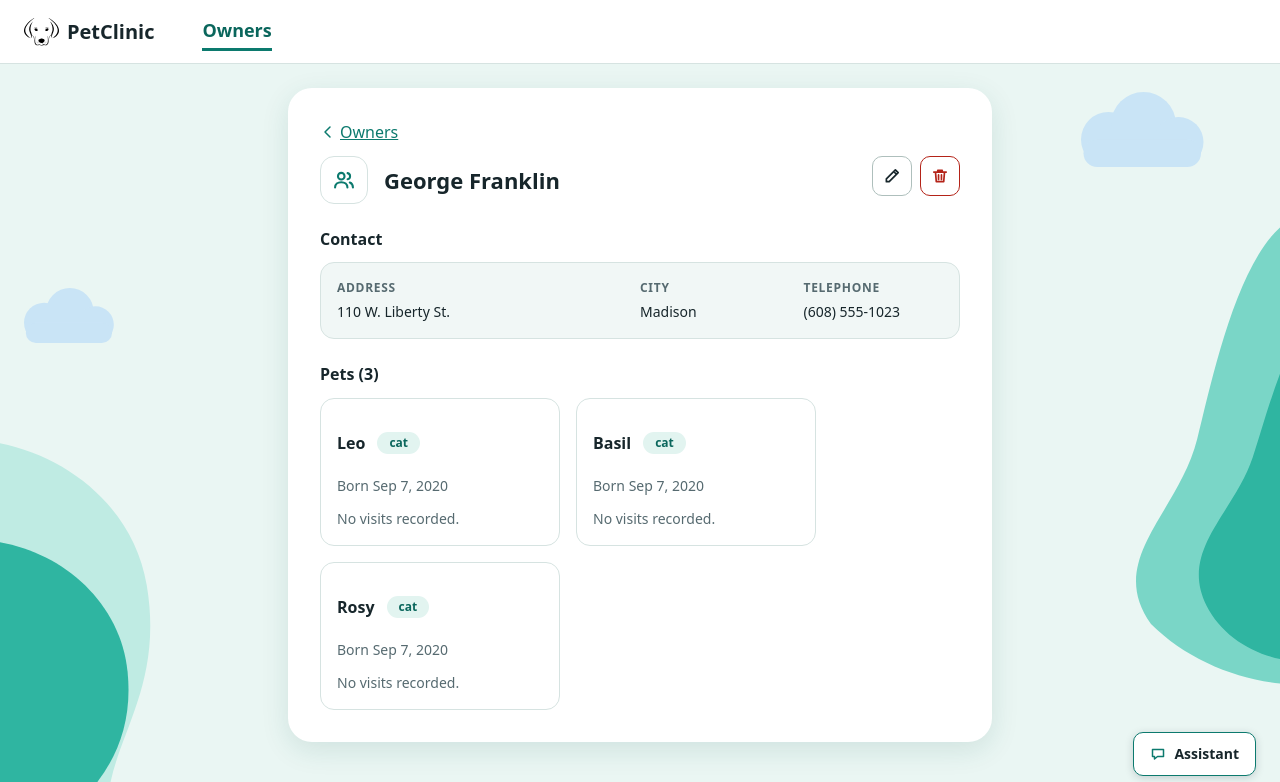
Test: deleting an owner › asks for confirmation, naming what will be removed, and sends nothing yet
Click the button named "Delete owner" at coordinates (940, 176), box [920,156,960,196]
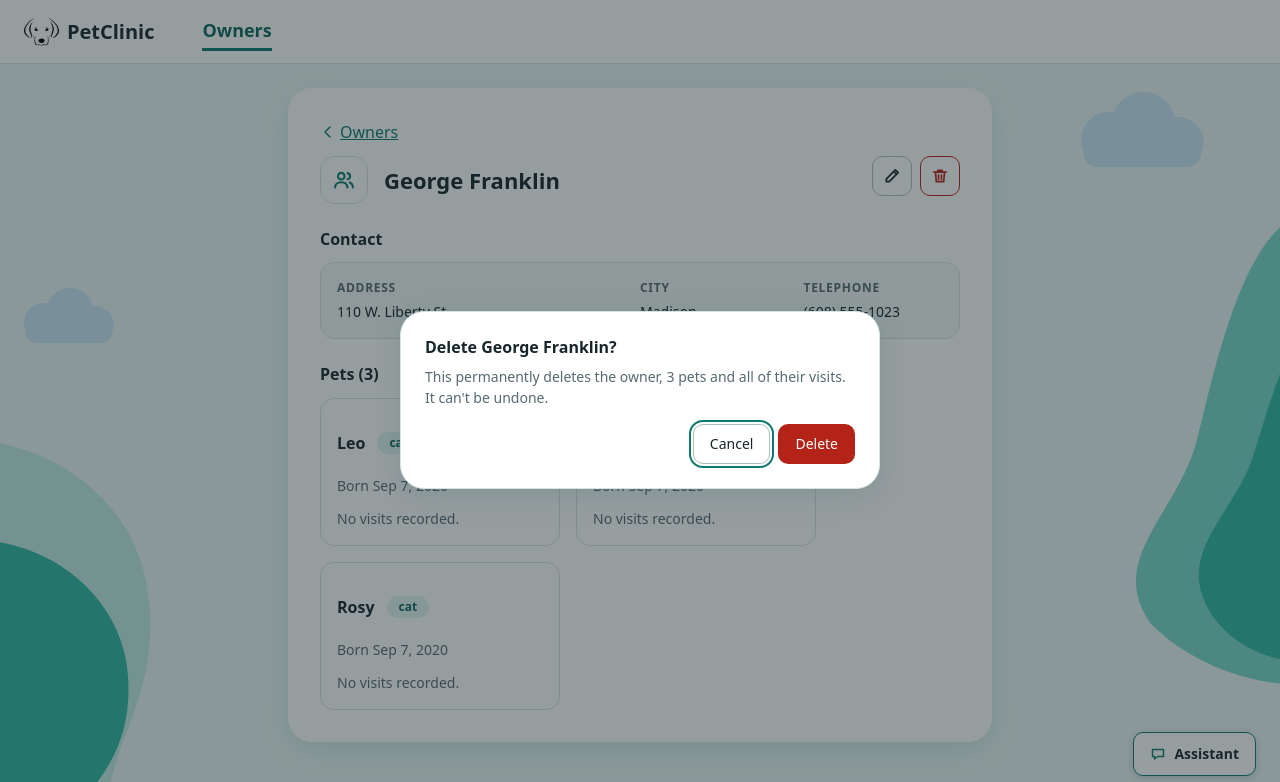
Result: the dialog "Delete George Franklin?" shows "3 pets and all of their visits" at [659,367,842,386]
